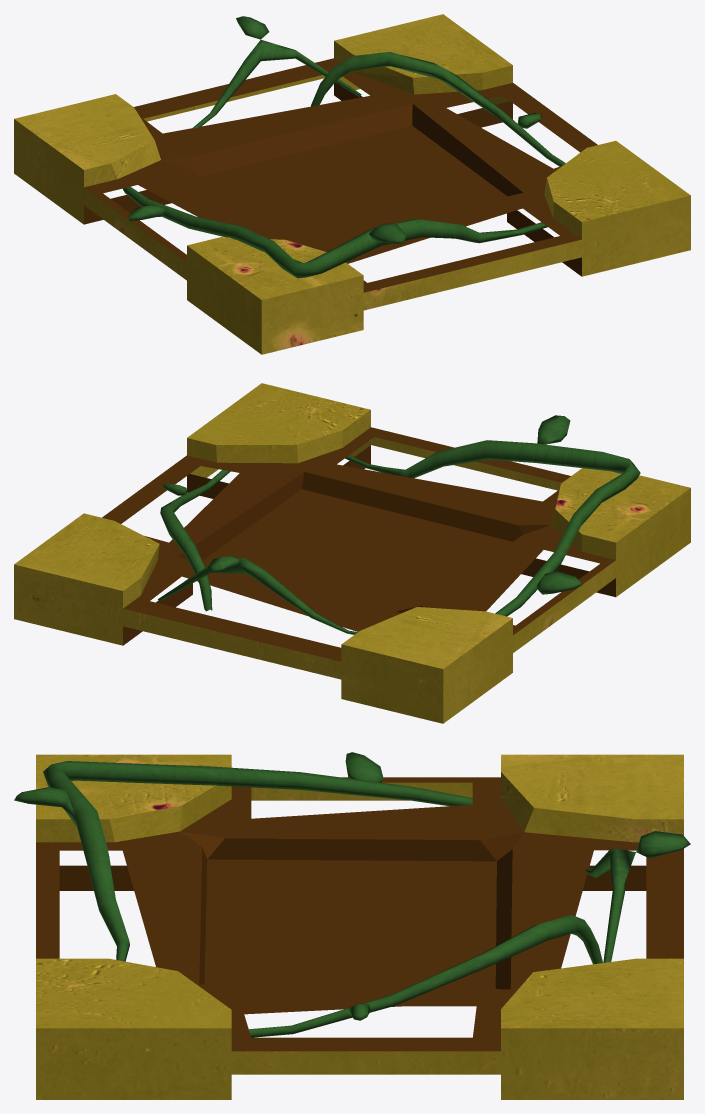
File: platformpje_MetPlantje.fbx
3 views of the same model, one above another, from view 1: azimuth 30°, elevation 25°; view 2: azimuth 150°, elevation 25°; view 3: azimuth 270°, elevation 25° (orthographic). The views are drawn at different scales.
Visible parts, largest first — view 1: Platform_WithLeaves; view 2: Platform_WithLeaves; view 3: Platform_WithLeaves.
Boxes of the visible parts, x1,y1,x2,y2 form: Platform_WithLeaves: [14, 14, 690, 354]; Platform_WithLeaves: [14, 383, 690, 723]; Platform_WithLeaves: [14, 752, 690, 1099].
Size of the model in its own units: 206 by 46.09 by 209.
